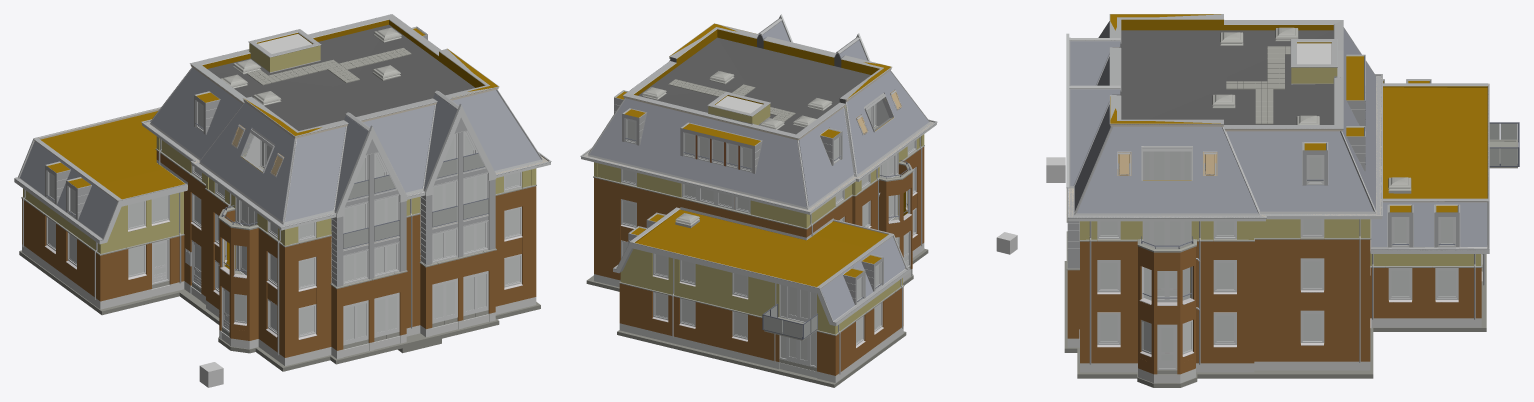
File: schependomlaan-draco.gltf
3 renders of one model, left to right at view 1: azimuth 30°, elevation 25°; view 2: azimuth 150°, elevation 25°; view 3: azimuth 270°, elevation 25°, orthographic. The views are drawn at different scales.
Size of the model in its own units: 23.95 by 15.06 by 24.47.
